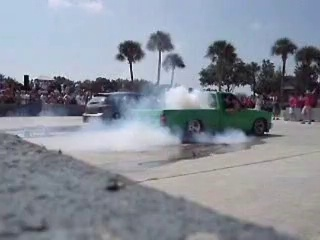smoke: (66, 111, 175, 149), (187, 127, 252, 144), (163, 86, 210, 108)
